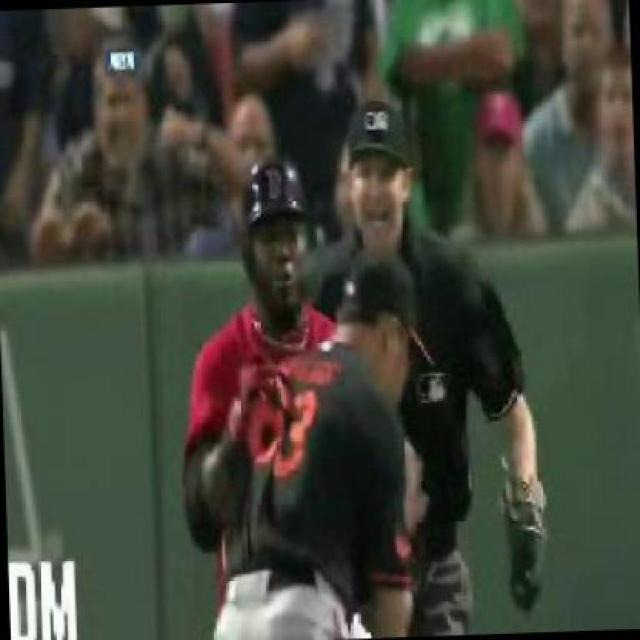fight: (174, 156, 434, 638)
